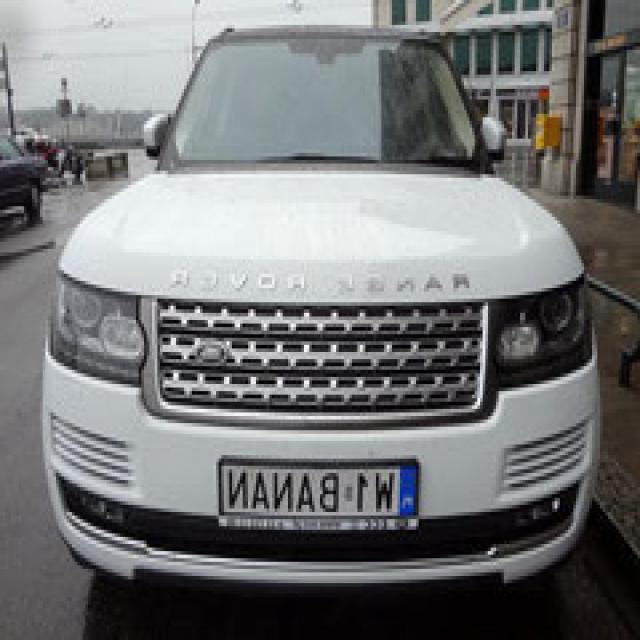pl_license_plate: (224, 462, 416, 512)
